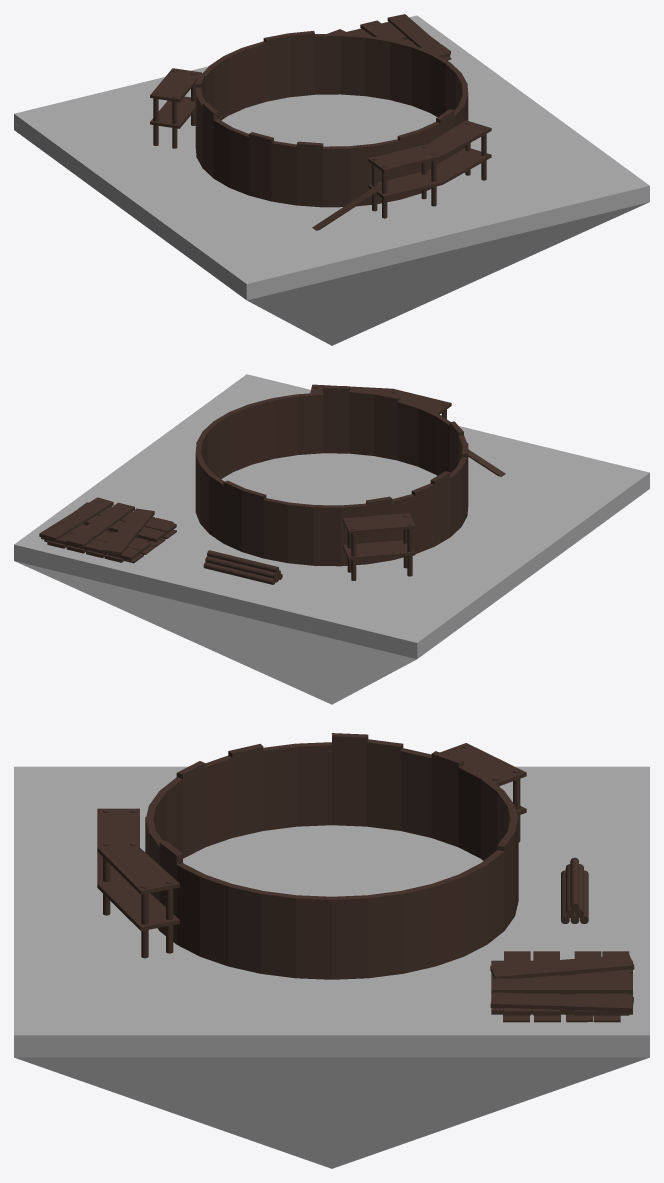
Rendered from Building Granary Scaffold.fbx.
3 renders of one model, top to bottom at view 1: azimuth 30°, elevation 25°; view 2: azimuth 150°, elevation 25°; view 3: azimuth 270°, elevation 25°, orthographic. The views are drawn at different scales.
Visible parts, largest first — view 1: Cube; view 2: Cube; view 3: Cube.
Part boxes in pixels (left/top/right/bottom): Cube: left=14, top=14, right=649, bottom=345; Cube: left=14, top=374, right=649, bottom=704; Cube: left=14, top=733, right=649, bottom=1168.
Size of the model in its own units: 1599 by 990 by 1599.
